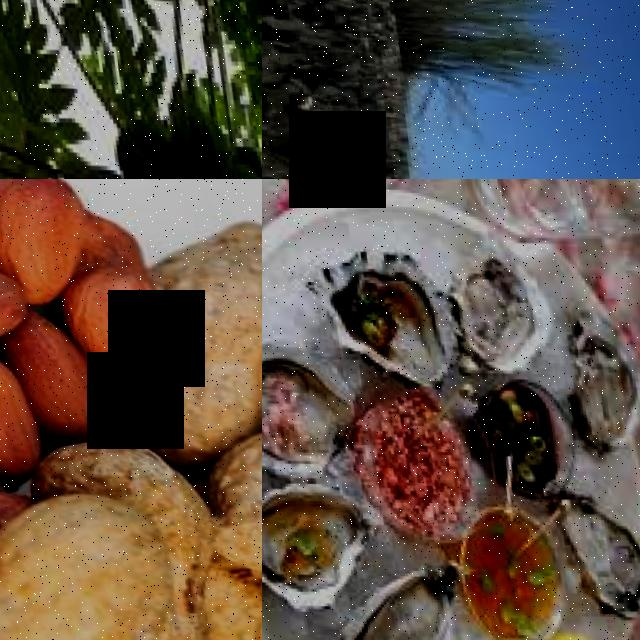oysters: (303, 239, 459, 382), (445, 234, 553, 375), (550, 291, 640, 452), (262, 479, 367, 615), (262, 351, 352, 485), (308, 566, 459, 640), (556, 490, 640, 622)
pawpaw: (207, 155, 262, 179)
peanuts: (0, 484, 175, 640), (65, 257, 182, 411), (139, 204, 262, 326), (182, 414, 262, 577), (0, 179, 93, 268), (0, 351, 36, 481)
